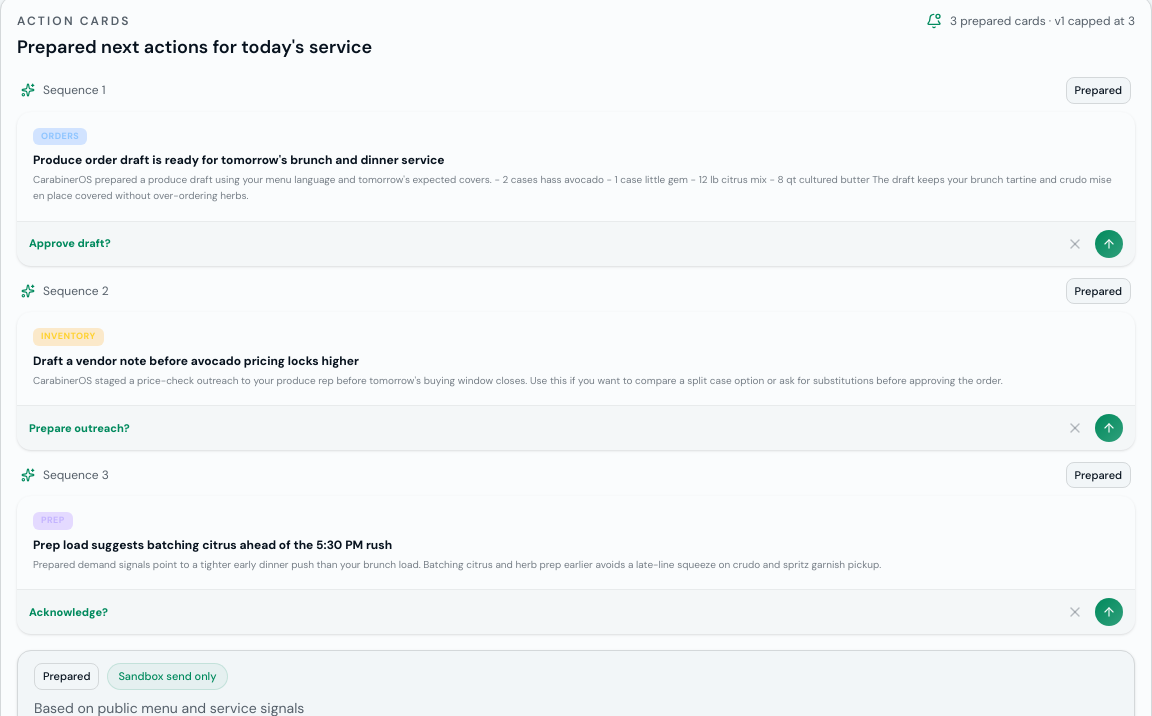
it: DemoActionCardSequence › opens a demo card and shows the sandbox result after commit
The width and height of the screenshot is (1152, 716).
Click the text "Draft a vendor note before avocado pricing locks higher" at (196, 360), box [33,352,359,368]
(page scrolled)
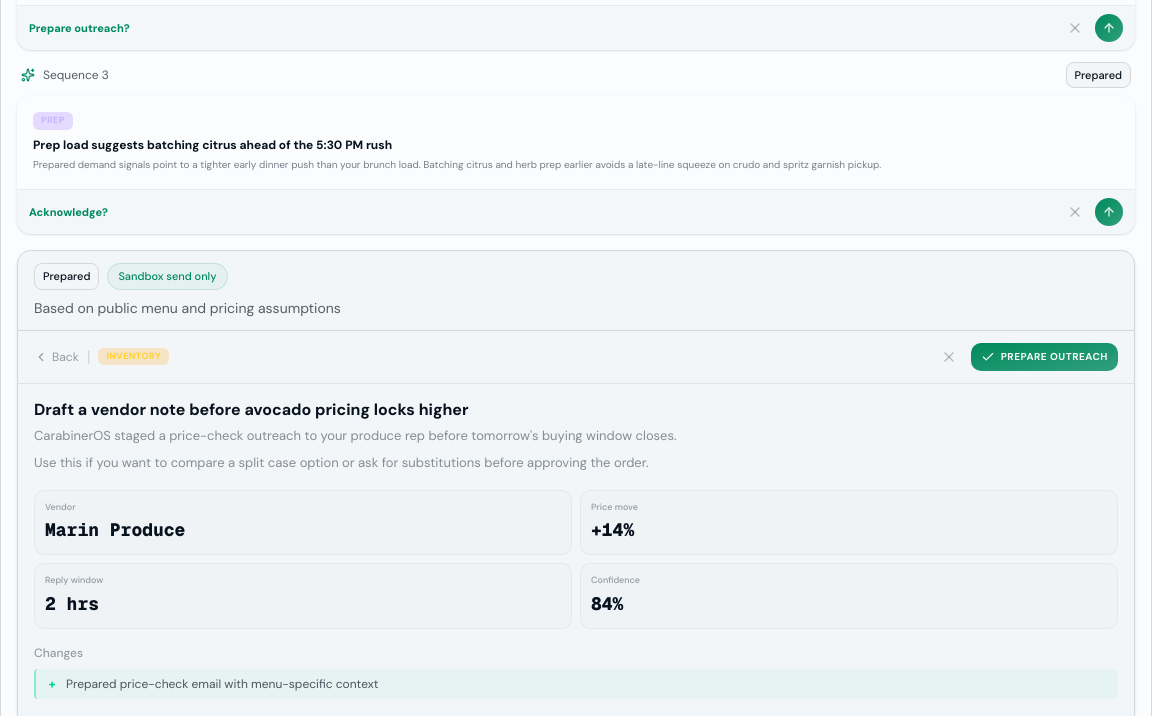
Check: the text "Based on public menu and pricing assumptions" is shown, box [34,298,341,316]
Click the button titled "Commit this card" at (1044, 356), box [971,342,1118,370]
(page scrolled)
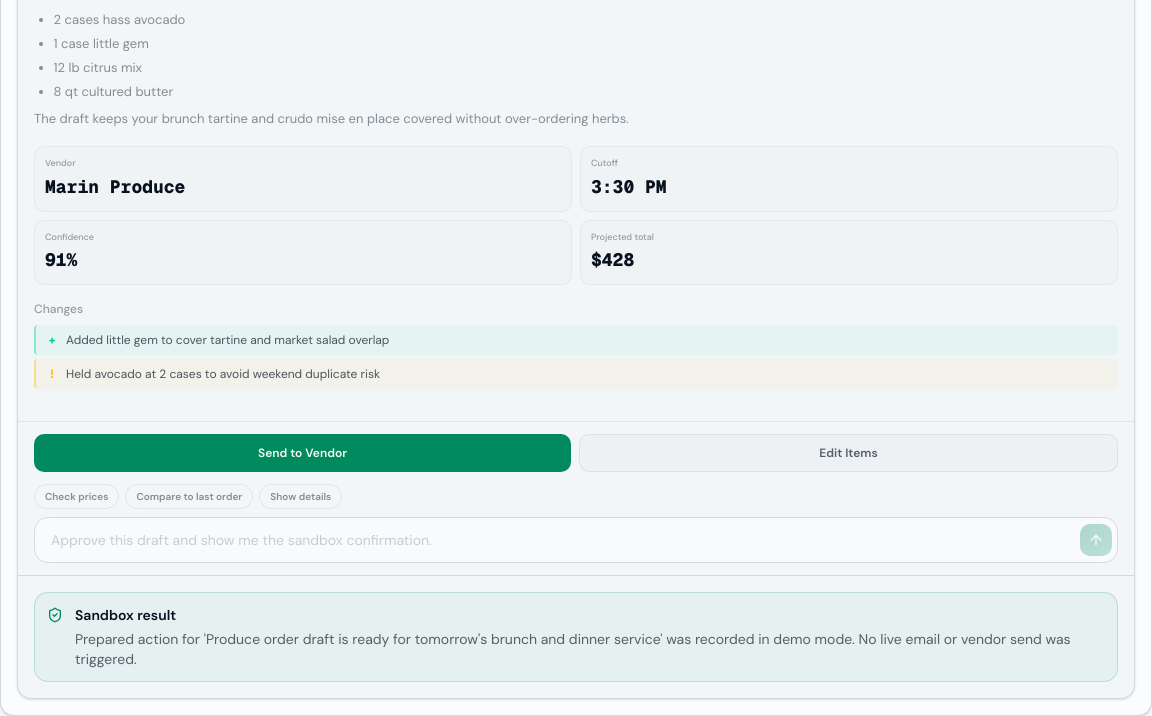
Check: the element with test id "demo-sandbox-result" is shown, box [18,575,1134,698]
Check: the text "Sandbox result" is shown, box [75,606,176,624]
Check: the text "No live email or vendor send was triggered" is shown, box [75,630,1070,668]
